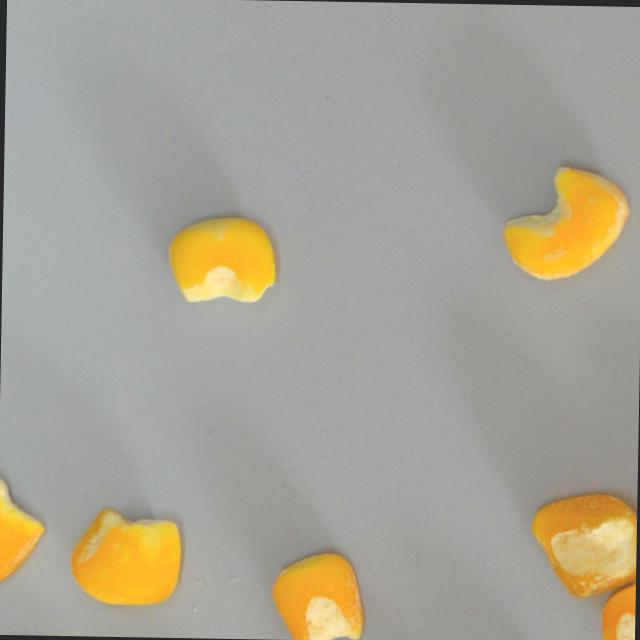no_desgerminado: (163, 211, 277, 307)
pelicula: (497, 158, 634, 287), (66, 502, 184, 608), (526, 489, 637, 597), (268, 547, 366, 640), (0, 471, 45, 586), (598, 571, 636, 640)
